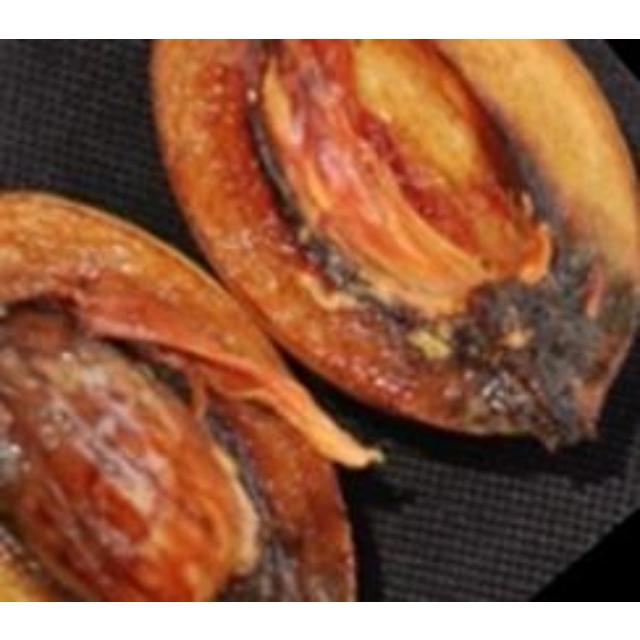damaged: (155, 38, 637, 445), (0, 190, 378, 599)
